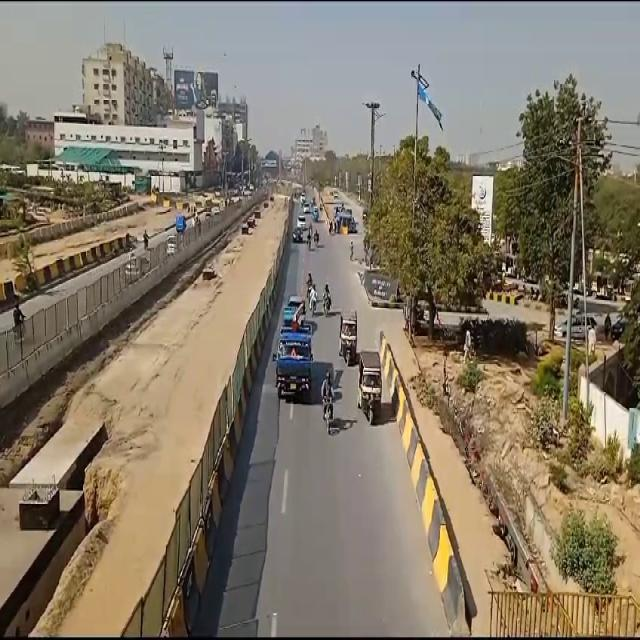motorbike: (321, 371, 338, 434), (320, 281, 332, 320), (142, 227, 149, 253), (306, 230, 312, 251)
truck: (272, 318, 314, 404)
